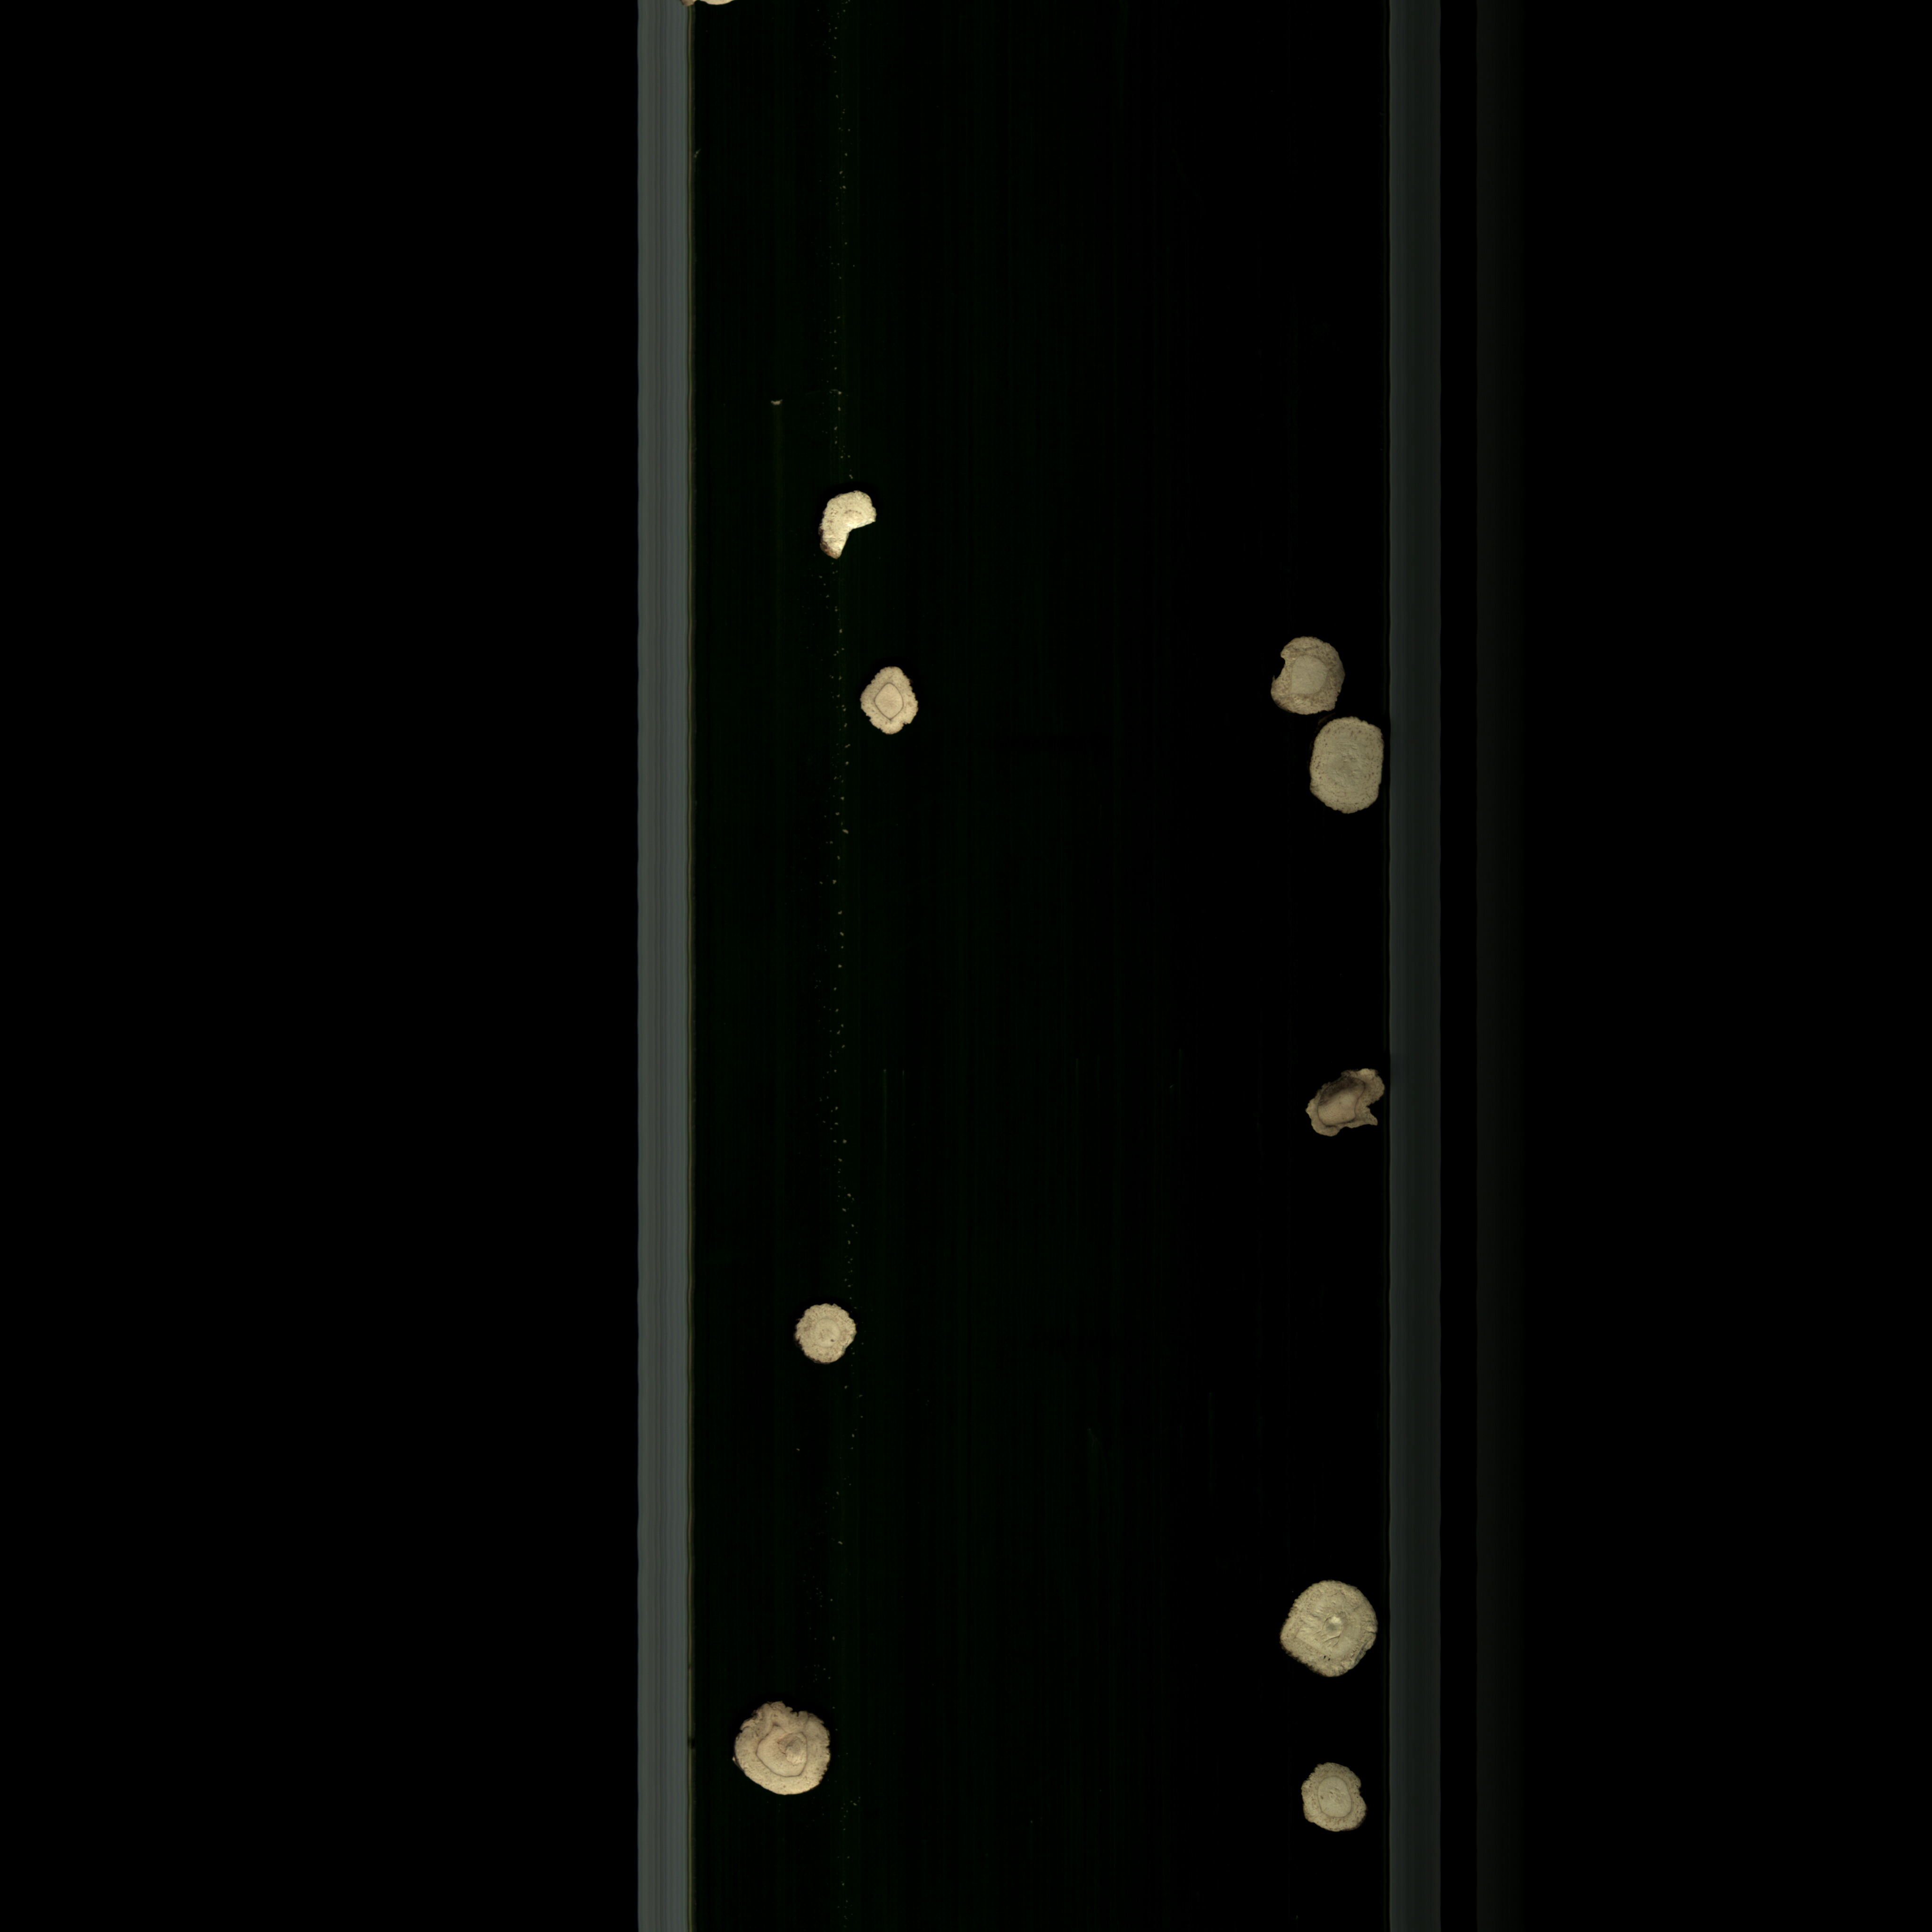debris: (814, 487, 876, 557)
distortion: (725, 1700, 842, 1805), (851, 662, 927, 736)
moldy: (1292, 1062, 1387, 1141), (1261, 633, 1353, 715)
